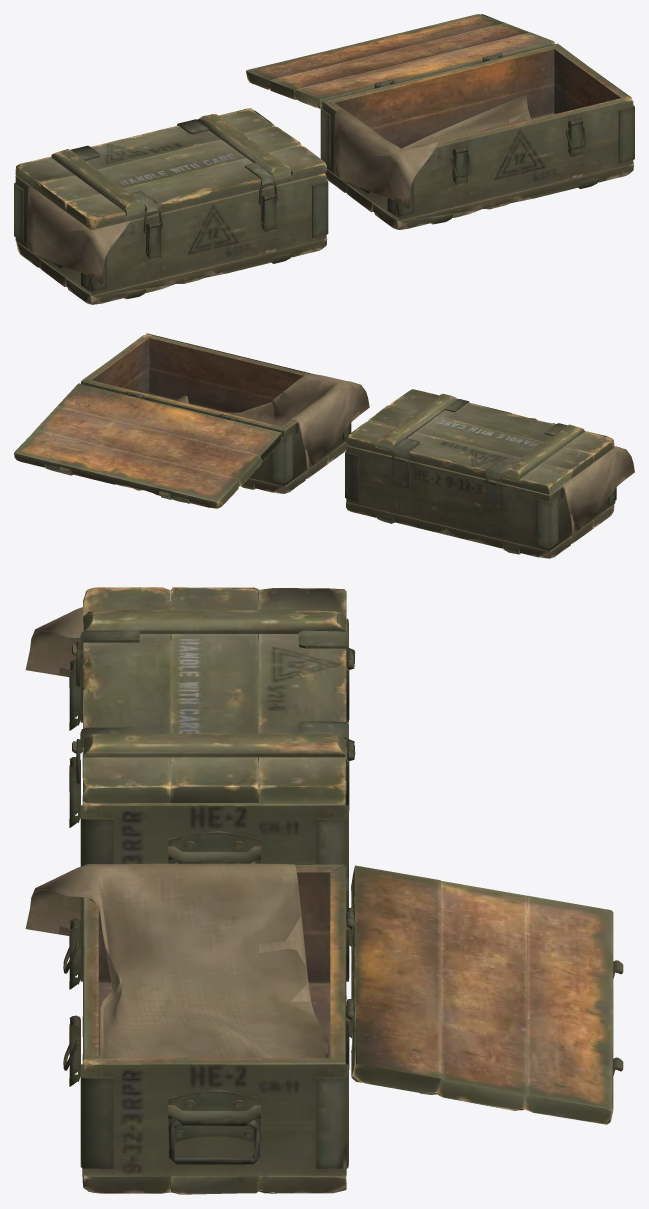
Rendered from old_military_crate.glb.
The picture shows the model from 3 angles, top to bottom: view 1: azimuth 30°, elevation 25°; view 2: azimuth 150°, elevation 25°; view 3: azimuth 270°, elevation 25°; orthographic projection. The views are drawn at different scales.
Parts seen in each view (by area): view 1: old_military_crate_b, old_military_crate_lid_a, old_military_crate_a, old_military_crate_lid_b, old_military_crate_cloth_b, old_military_crate_cloth_a, old_military_crate_latch_a, old_military_crate_latch_b; view 2: old_military_crate_lid_b, old_military_crate_lid_a, old_military_crate_a, old_military_crate_b, old_military_crate_cloth_b, old_military_crate_cloth_a; view 3: old_military_crate_lid_a, old_military_crate_lid_b, old_military_crate_b, old_military_crate_cloth_b, old_military_crate_a, old_military_crate_cloth_a, old_military_crate_latch_b, old_military_crate_latch_a.
Part boxes in pixels (x1=…): old_military_crate_b: x1=320, y1=43, x2=634, y2=229; old_military_crate_lid_a: x1=15, y1=108, x2=326, y2=230; old_military_crate_a: x1=14, y1=173, x2=328, y2=304; old_military_crate_lid_b: x1=246, y1=14, x2=554, y2=108; old_military_crate_cloth_b: x1=333, y1=95, x2=531, y2=209; old_military_crate_cloth_a: x1=26, y1=186, x2=130, y2=284; old_military_crate_latch_a: x1=146, y1=193, x2=276, y2=260; old_military_crate_latch_b: x1=452, y1=118, x2=582, y2=186; old_military_crate_lid_b: x1=14, y1=383, x2=282, y2=508; old_military_crate_lid_a: x1=346, y1=389, x2=614, y2=494; old_military_crate_a: x1=345, y1=445, x2=616, y2=558; old_military_crate_b: x1=81, y1=333, x2=351, y2=493; old_military_crate_cloth_b: x1=174, y1=373, x2=369, y2=469; old_military_crate_cloth_a: x1=562, y1=446, x2=634, y2=534; old_military_crate_lid_a: x1=72, y1=587, x2=355, y2=803; old_military_crate_lid_b: x1=346, y1=865, x2=623, y2=1124; old_military_crate_b: x1=80, y1=864, x2=354, y2=1194; old_military_crate_cloth_b: x1=25, y1=863, x2=329, y2=1057; old_military_crate_a: x1=80, y1=618, x2=354, y2=880; old_military_crate_cloth_a: x1=25, y1=605, x2=258, y2=789; old_military_crate_latch_b: x1=69, y1=918, x2=80, y2=1086; old_military_crate_latch_a: x1=69, y1=659, x2=80, y2=827.
Bounding box in the file's own units: 1.82 × 0.3004 × 0.9757.
1 material, 1 textured.
